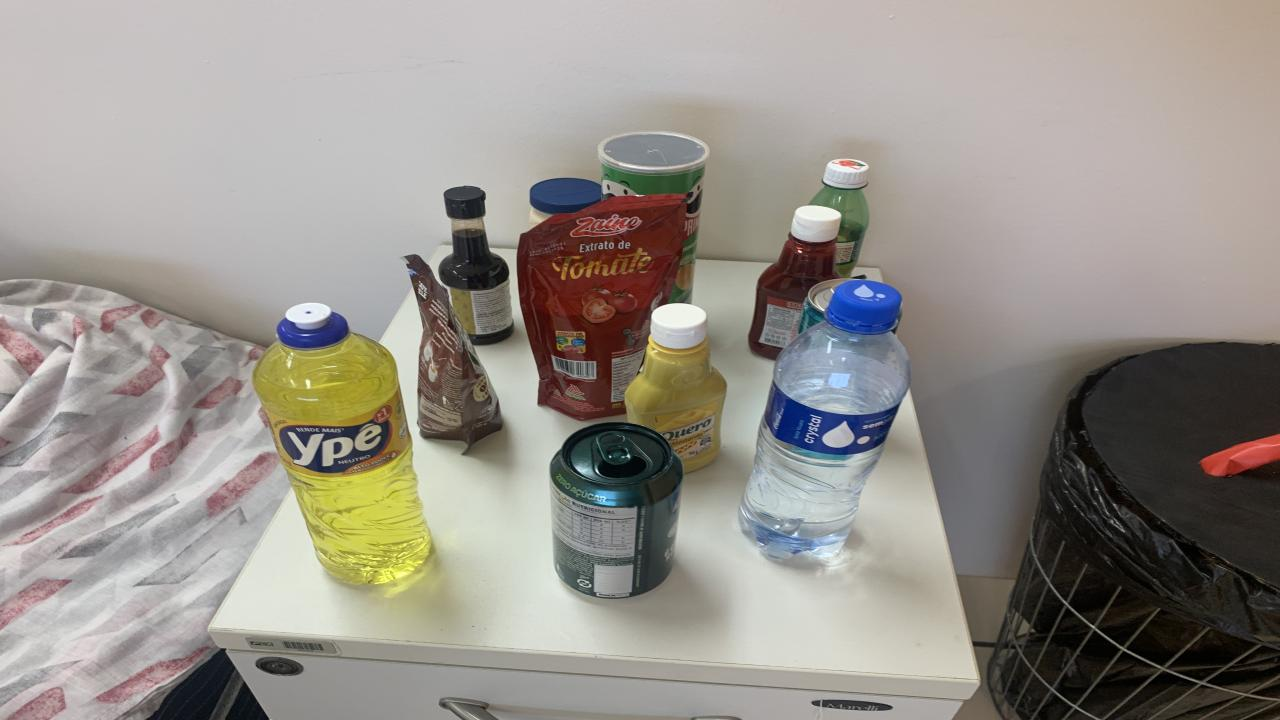Coffee-Pantry_Items: (405, 255, 502, 446)
Detergent-Cleanup_Items: (252, 302, 430, 583)
English_Sauce-Pantry_Items: (438, 186, 512, 345)
Guarana-Drinks: (810, 158, 870, 278)
Guarana_Can-Drinks: (550, 422, 682, 598)
Ketchup-Pantry_Items: (750, 204, 840, 358)
Mayonnaise-Pantry_Items: (530, 178, 602, 229)
Mustard-Pantry_Items: (625, 304, 728, 472)
Pringles-Snacks: (598, 131, 710, 302)
Tea-Drinks: (798, 279, 850, 332)
Tomato_Sauce-Pantry_Items: (518, 195, 688, 420)
Water_Bottle-Drinks: (740, 279, 910, 557)
